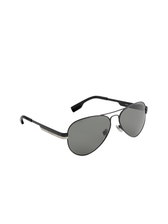glasses: (19, 92, 156, 157)
